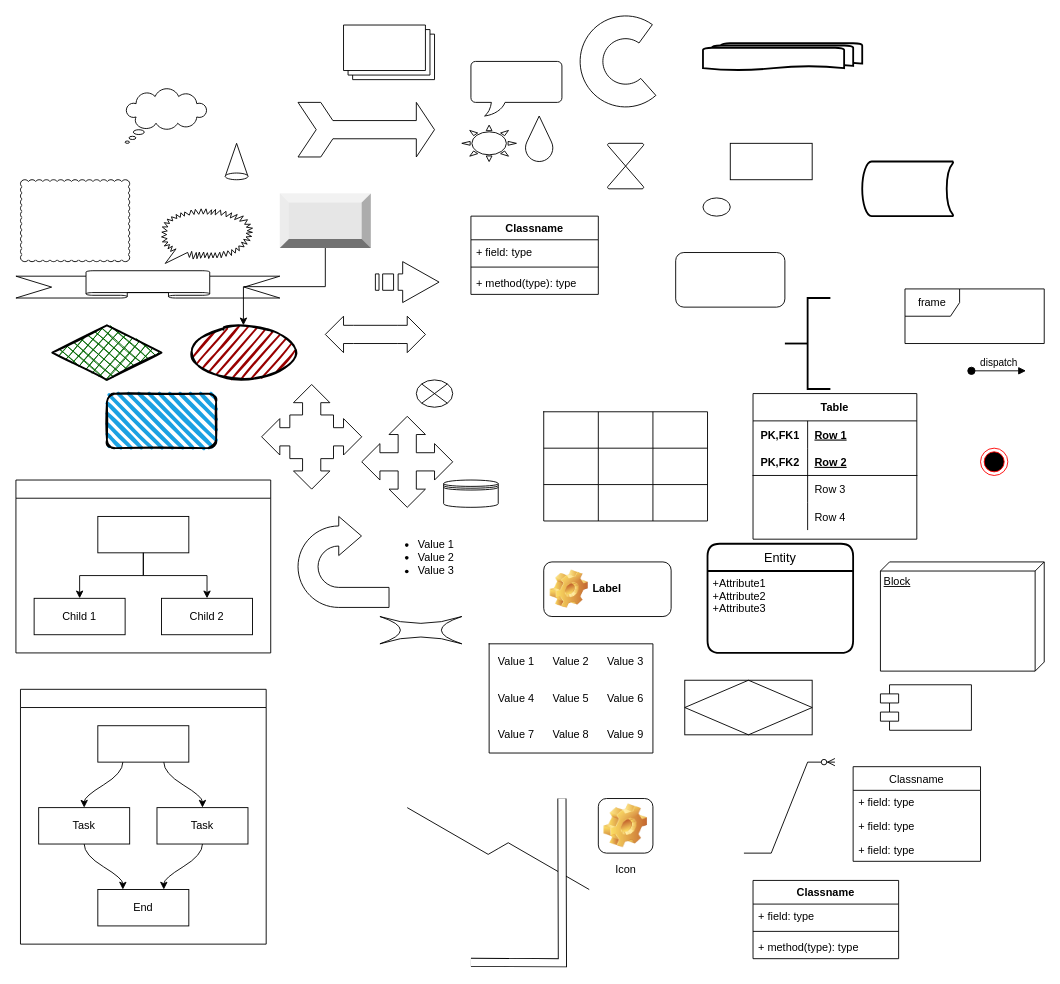
Some shapes in this 1060 by 984 pixel diagram are drawn without their labels. The box of each missing label's shape, as (x1, y1, x2, y2) in pixels:
Associative Entity: (684, 679, 812, 735)
Button: (279, 193, 370, 248)
Module: (880, 684, 971, 730)
Root: (97, 516, 189, 553)
Start: (97, 725, 189, 762)
Vertical Flow Layout: (20, 688, 266, 944)
Vertical Tree Layout: (15, 479, 271, 653)
